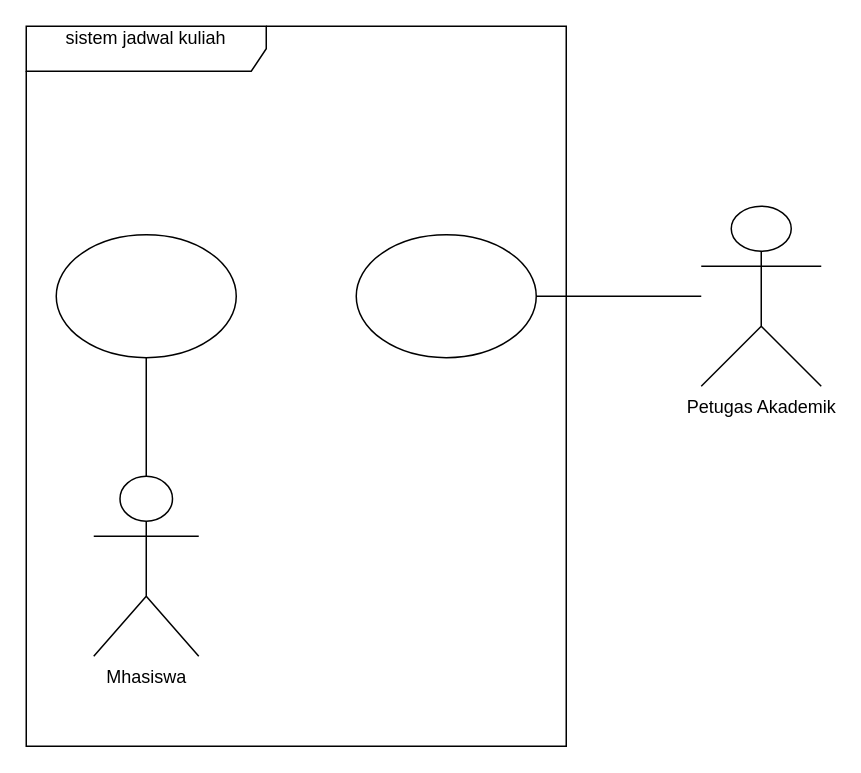
Some shapes in this 861 by 773 pixel diagram are drawn without their labels. Each missing label, with the centre of its shape:
Kelola Jadwal kuliah: the point at 445,295
Lihat jadwal kuliah: the point at 145,295
